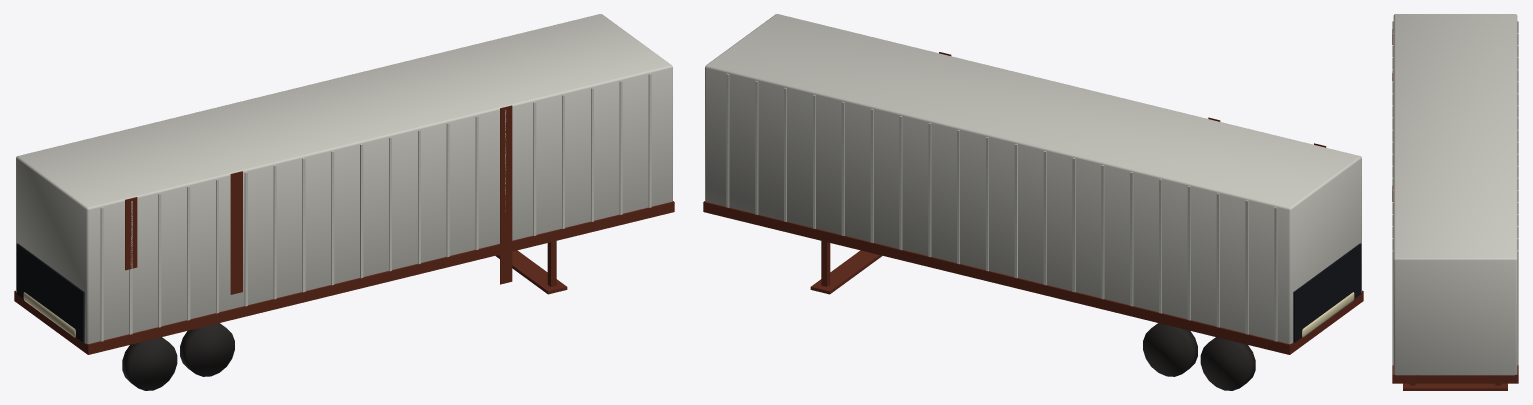
File: trailer.glb
3 renders of one model, left to right at view 1: azimuth 30°, elevation 25°; view 2: azimuth 150°, elevation 25°; view 3: azimuth 270°, elevation 25°, orthographic. The views are drawn at different scales.
Parts seen in each view (by area): view 1: box, rail, rear_gap, tyre_-4_-1, tyre_-3_-1, streak_1, streak_0, leg_foot, streak_2; view 2: box, rail, rear_gap, tyre_-4_1, tyre_-3_1, leg_foot; view 3: box, rail, leg_foot, rib.038, rib.039.
Boxes of the visible parts, x1,y1,x2,y2 form: box: [16, 14, 672, 343]; rail: [14, 201, 674, 354]; rear_gap: [16, 243, 84, 342]; tyre_-4_-1: [122, 337, 177, 390]; tyre_-3_-1: [180, 323, 234, 376]; streak_1: [500, 105, 512, 284]; streak_0: [230, 171, 242, 294]; leg_foot: [495, 250, 567, 294]; streak_2: [125, 197, 137, 270]; box: [705, 14, 1361, 343]; rail: [703, 201, 1363, 354]; rear_gap: [1293, 243, 1361, 342]; tyre_-4_1: [1200, 337, 1255, 390]; tyre_-3_1: [1143, 323, 1197, 376]; leg_foot: [810, 250, 882, 294]; box: [1393, 14, 1517, 375]; rail: [1392, 365, 1518, 383]; leg_foot: [1403, 383, 1507, 390]; rib.038: [1392, 250, 1393, 365]; rib.039: [1517, 250, 1518, 365].
Size of the model in its own units: 12.25 by 4.06 by 2.66.
